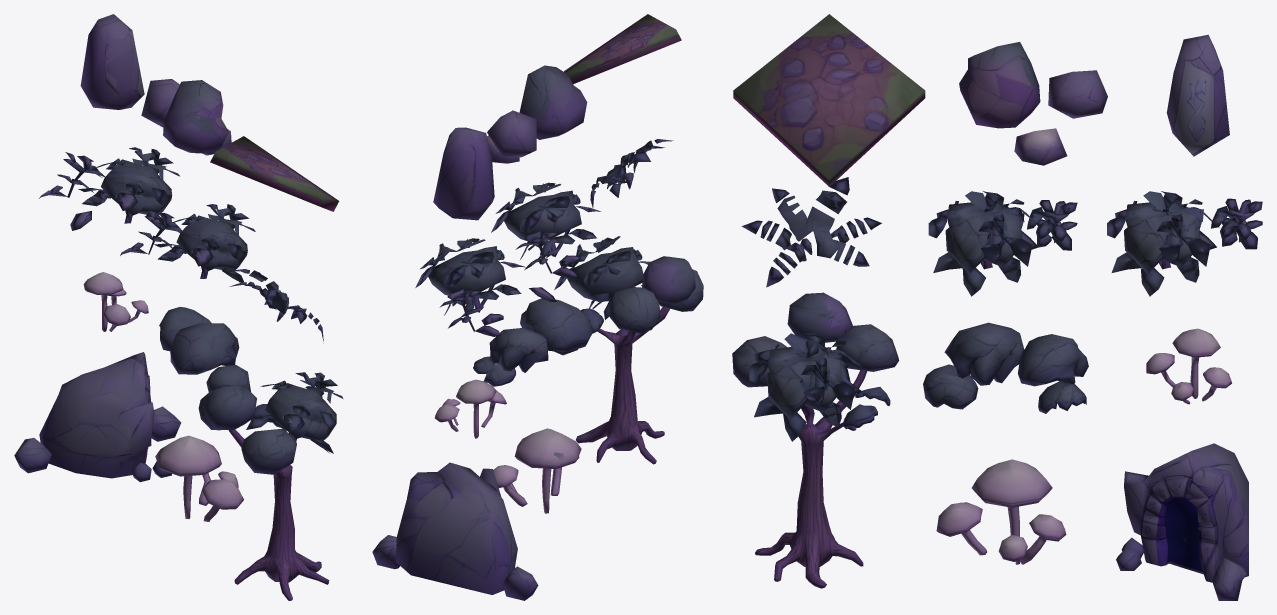
The model's file is low-poly-environment.glb.
3 views of the same model, side by side, from view 1: azimuth 30°, elevation 25°; view 2: azimuth 150°, elevation 25°; view 3: azimuth 270°, elevation 25° (orthographic). The views are drawn at different scales.
Visible parts, largest first — view 1: tripo_part_7, tripo_part_9, tripo_part_0, tripo_part_8, tripo_part_55, tripo_part_3, tripo_part_10, tripo_part_1, tripo_part_20, tripo_part_2, tripo_part_28, tripo_part_26 (+11 smaller); view 2: tripo_part_7, tripo_part_9, tripo_part_0, tripo_part_8, tripo_part_55, tripo_part_1, tripo_part_10, tripo_part_3, tripo_part_2, tripo_part_20, tripo_part_13, tripo_part_26 (+11 smaller); view 3: tripo_part_55, tripo_part_7, tripo_part_0, tripo_part_9, tripo_part_8, tripo_part_10, tripo_part_3, tripo_part_1, tripo_part_2, tripo_part_20, tripo_part_13, tripo_part_26 (+19 smaller).
Part boxes in pixels (box(x1,y1,x2,y2)): tripo_part_7: box(39, 352, 154, 478); tripo_part_9: box(80, 14, 144, 109); tripo_part_0: box(228, 429, 329, 600); tripo_part_8: box(163, 80, 229, 153); tripo_part_55: box(210, 136, 339, 211); tripo_part_3: box(170, 323, 239, 374); tripo_part_10: box(260, 380, 336, 440); tripo_part_1: box(78, 158, 172, 215); tripo_part_20: box(155, 435, 221, 518); tripo_part_2: box(171, 214, 247, 270); tripo_part_28: box(241, 428, 296, 474); tripo_part_26: box(202, 385, 256, 430); tripo_part_7: box(396, 462, 517, 594); tripo_part_9: box(433, 127, 494, 220); tripo_part_0: box(576, 285, 669, 464); tripo_part_8: box(519, 65, 587, 139); tripo_part_55: box(563, 14, 681, 84); tripo_part_1: box(428, 246, 505, 315); tripo_part_10: box(567, 247, 643, 308); tripo_part_3: box(520, 298, 594, 351); tripo_part_2: box(504, 190, 581, 259); tripo_part_20: box(514, 428, 581, 513); tripo_part_13: box(489, 327, 548, 372); tripo_part_26: box(642, 256, 695, 303); tripo_part_55: box(733, 14, 925, 186); tripo_part_7: box(1124, 443, 1248, 582); tripo_part_0: box(755, 370, 867, 588); tripo_part_9: box(1166, 34, 1229, 156); tripo_part_8: box(959, 42, 1040, 128); tripo_part_10: box(767, 333, 862, 427); tripo_part_3: box(944, 322, 1024, 385); tripo_part_1: box(1124, 191, 1219, 282); tripo_part_2: box(945, 191, 1041, 282); tripo_part_20: box(972, 459, 1052, 536); tripo_part_13: box(1018, 334, 1088, 386); tripo_part_26: box(787, 292, 852, 342).
Size of the model in its own units: 0.3855 by 1 by 0.9197.
84 materials, 84 textured.
